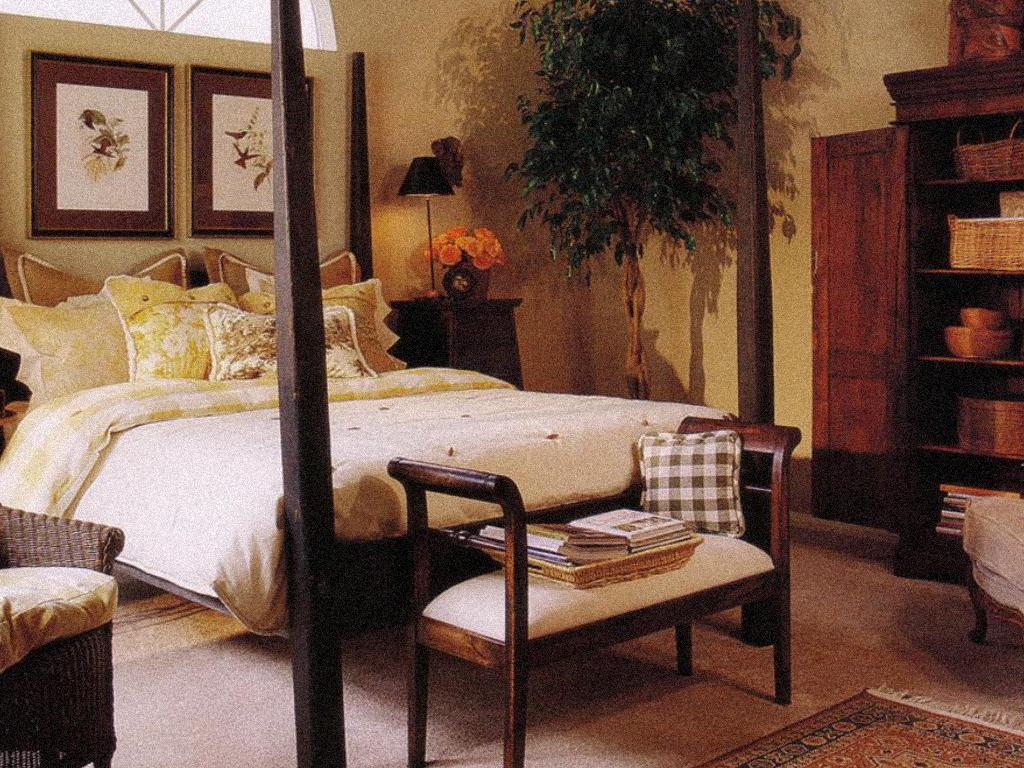Matera: (519, 0, 779, 396)
Puerta: (808, 140, 901, 541)
